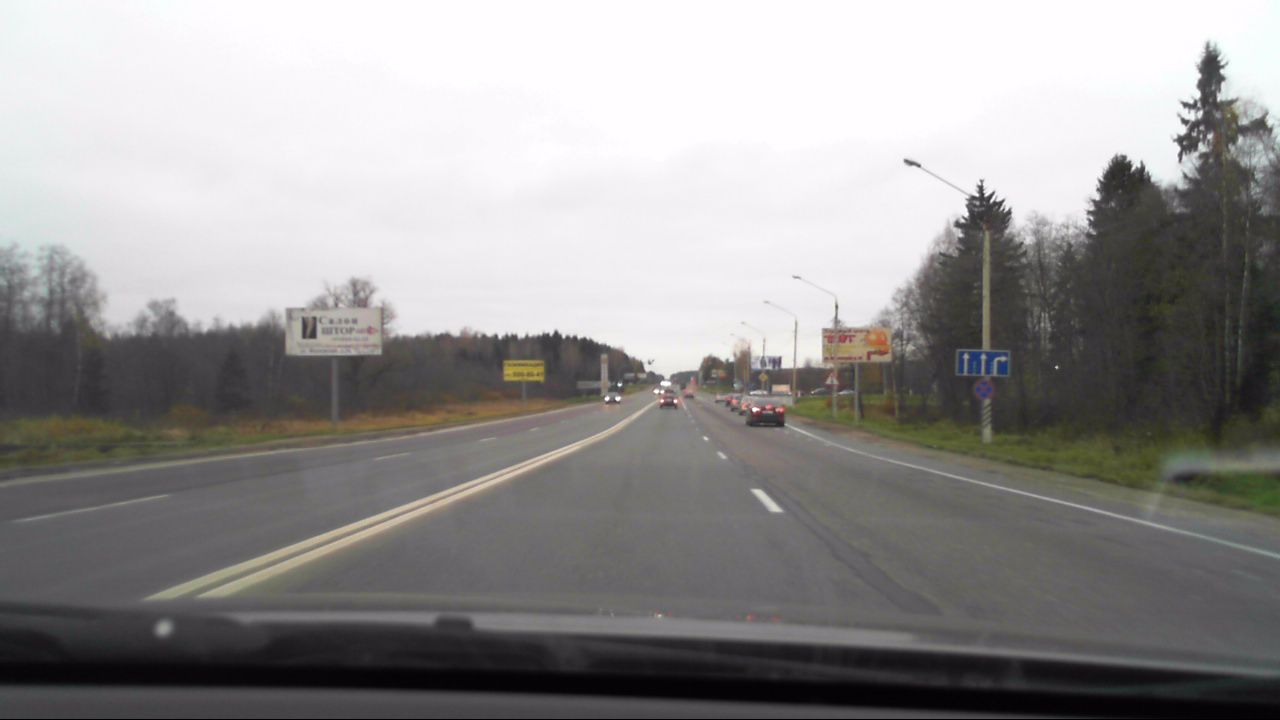No Parking: (972, 378, 992, 397)
